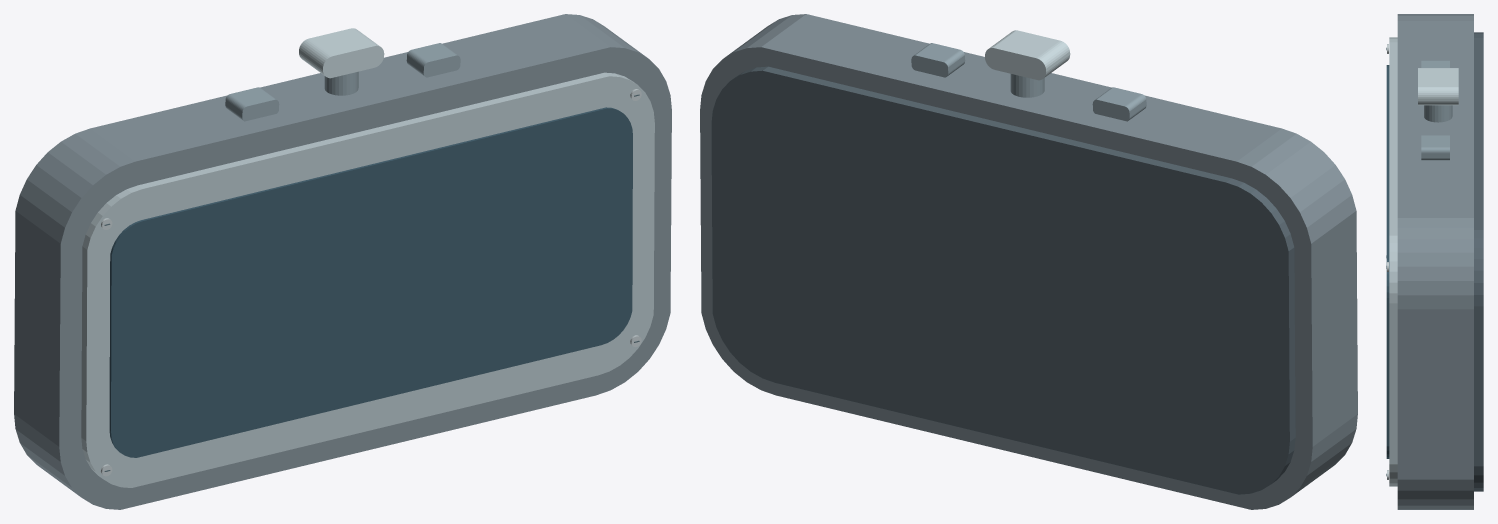
File: SpaceGamble_StopwatchCounter.glb
3 renders of one model, left to right at view 1: azimuth 30°, elevation 25°; view 2: azimuth 150°, elevation 25°; view 3: azimuth 270°, elevation 25°, orthographic. The views are drawn at different scales.
Visible parts, largest first — view 1: DisplayGlass, MainCase, FrontBezel, StopwatchPusher, TopControl_Right, TopControl_Left; view 2: RearCover, MainCase, StopwatchPusher, TopControl_Right, TopControl_Left; view 3: MainCase, RearCover, FrontBezel, StopwatchPusher, DisplayGlass, TopControl_Right, StopwatchStem, TopControl_Left.
Boxes of the visible parts, x1,y1,x2,y2 form: DisplayGlass: [109, 107, 632, 457]; MainCase: [14, 14, 671, 509]; FrontBezel: [81, 72, 654, 487]; StopwatchPusher: [299, 28, 384, 78]; TopControl_Right: [406, 43, 460, 77]; TopControl_Left: [225, 87, 279, 121]; RearCover: [711, 66, 1295, 494]; MainCase: [700, 14, 1357, 509]; StopwatchPusher: [985, 30, 1070, 80]; TopControl_Right: [911, 43, 965, 77]; TopControl_Left: [1092, 87, 1146, 121]; MainCase: [1397, 14, 1473, 509]; RearCover: [1474, 32, 1483, 491]; FrontBezel: [1389, 37, 1397, 486]; StopwatchPusher: [1418, 68, 1458, 105]; DisplayGlass: [1386, 65, 1389, 458]; TopControl_Right: [1421, 135, 1449, 160]; StopwatchStem: [1424, 105, 1452, 122]; TopControl_Left: [1421, 60, 1449, 67].
Size of the model in its own units: 0.5 by 0.3055 by 0.0814.
